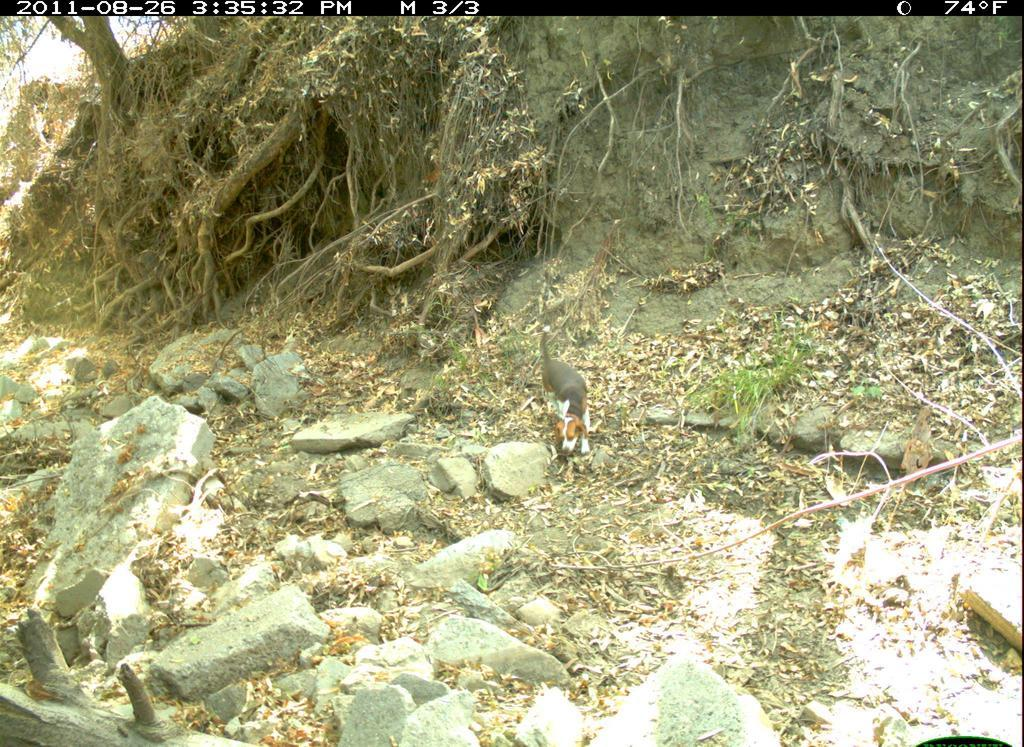dog: (533, 324, 603, 484)
